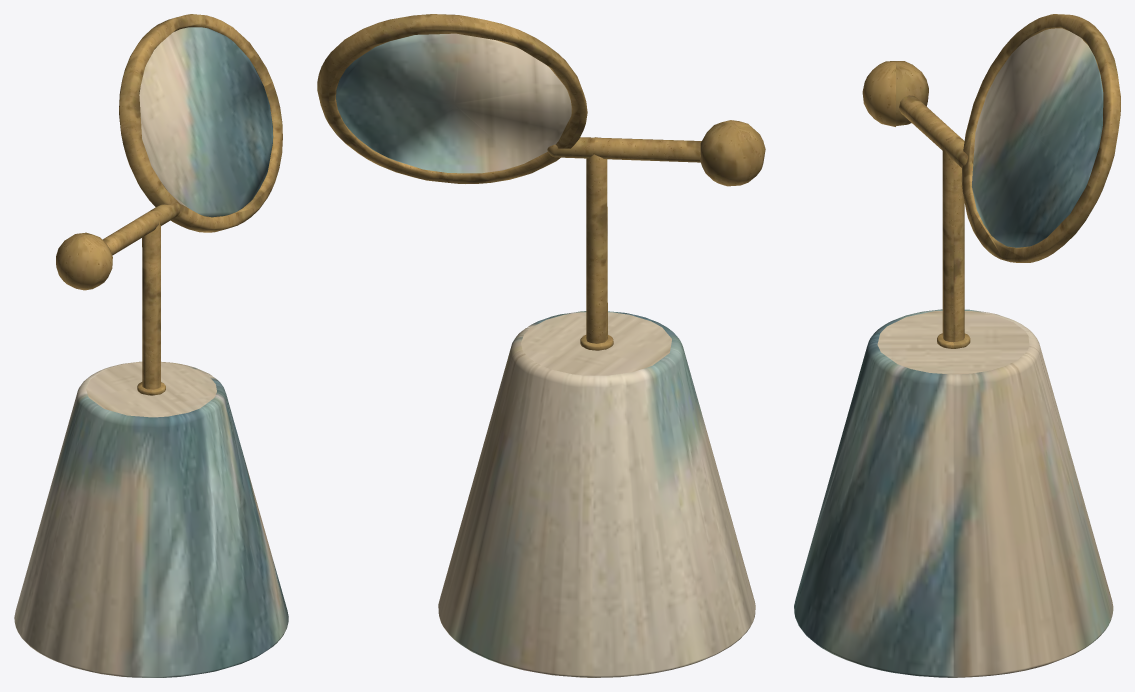
Rendered from Medenka_03_Lupa_bila.glb.
3 views of the same model, side by side, from view 1: azimuth 30°, elevation 25°; view 2: azimuth 150°, elevation 25°; view 3: azimuth 270°, elevation 25° (orthographic). The views are drawn at different scales.
Parts seen in each view (by area): view 1: Telo, Vlozka_cocky, Ram_cocky, Sloupek, Kulicka, Rameno; view 2: Telo, Vlozka_cocky, Ram_cocky, Sloupek, Kulicka, Rameno; view 3: Telo, Vlozka_cocky, Ram_cocky, Sloupek, Kulicka, Rameno.
Boxes of the visible parts, left/top/right/bottom form: Telo: left=14, top=361, right=288, bottom=677; Vlozka_cocky: left=139, top=27, right=273, bottom=217; Ram_cocky: left=119, top=14, right=282, bottom=232; Sloupek: left=142, top=212, right=160, bottom=389; Kulicka: left=56, top=232, right=112, bottom=290; Rameno: left=102, top=202, right=180, bottom=255; Telo: left=438, top=311, right=755, bottom=677; Vlozka_cocky: left=336, top=33, right=571, bottom=173; Ram_cocky: left=317, top=14, right=587, bottom=183; Sloupek: left=586, top=137, right=607, bottom=343; Kulicka: left=700, top=120, right=765, bottom=186; Rameno: left=547, top=137, right=701, bottom=162; Telo: left=794, top=309, right=1113, bottom=677; Vlozka_cocky: left=972, top=28, right=1103, bottom=247; Ram_cocky: left=961, top=14, right=1120, bottom=262; Sloupek: left=942, top=135, right=964, bottom=342; Kulicka: left=862, top=61, right=928, bottom=126; Rameno: left=899, top=95, right=973, bottom=167.
Bounding box in the file's own units: 0.0504 × 0.0863 × 0.0407.
Materials: 2 (2 with a texture image).
